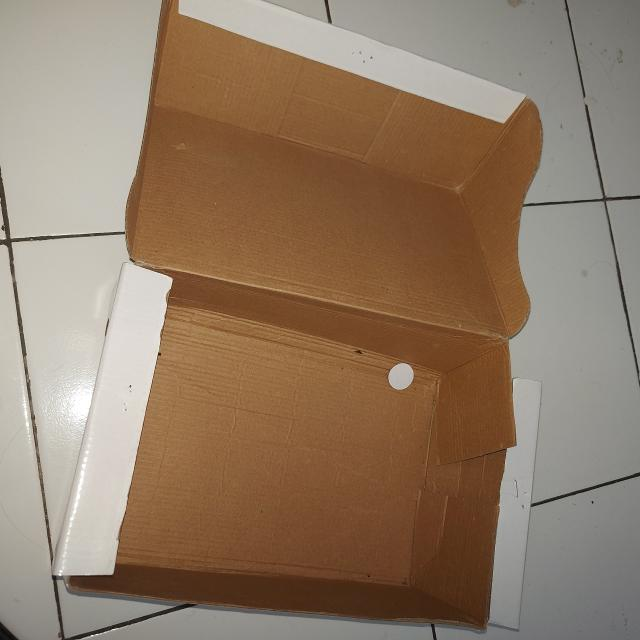Organik: (53, 0, 547, 631)
